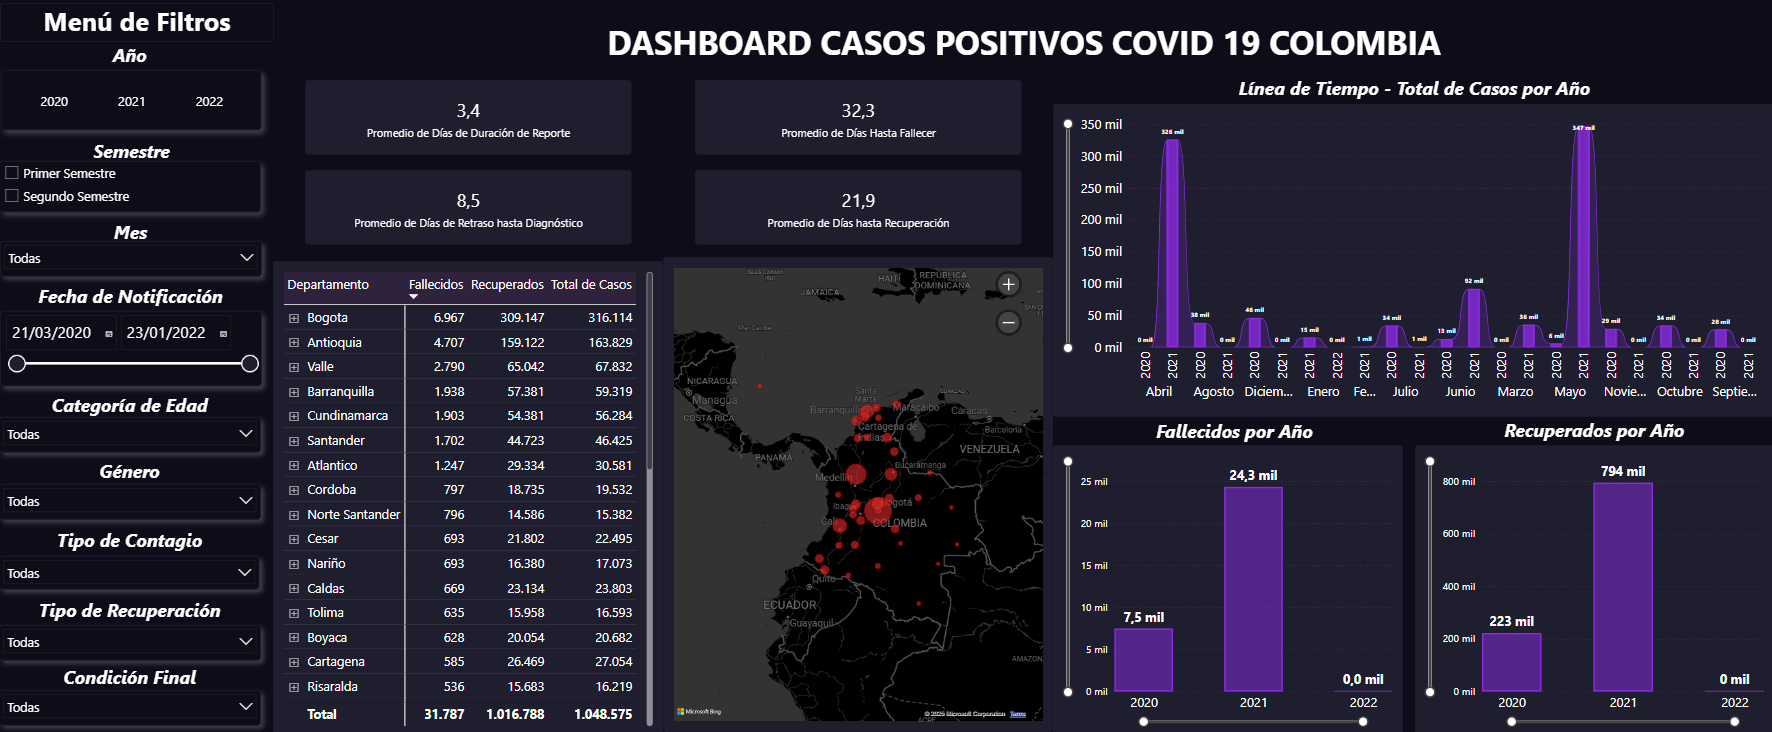

What the dashboard file says about the page in this screenshot:
{"tool":"powerbi","page":{"name":"DASHBOARD","canvas":[2600,1080],"ordinal":0},"visuals":[{"type":"map","title":"Total Casos por Departamento","fields":{"Category":["TBL_DIM_UBICACION_T0.UBICACIÓN.Ubicación del Departamento"],"Size":["TBL_FACT_CASOS.Total de Casos"]},"box":[972.1,379.1,571.4,695.4],"z":0},{"type":"pivotTable","fields":{"Rows":["TBL_DIM_UBICACION_T0.UBICACIÓN.Departamento","TBL_DIM_UBICACION_T0.UBICACIÓN.Municipio"],"Values":["TBL_FACT_CASOS.Fallecidos","TBL_FACT_CASOS.Recuperados","TBL_FACT_CASOS.Total de Casos"]},"box":[400.9,384.7,570.9,696.4],"z":1000},{"type":"slicer","fields":{"Values":["TBL_DIM_CASO_T2.CASO.Tipo de Contagio"]},"box":[0,817.6,380.9,48.5],"z":2000},{"type":"textbox","box":[401.1,30.7,2198.9,76.1],"z":3000},{"type":"textbox","box":[1.8,7.2,400.7,57.5],"z":4000},{"type":"textbox","box":[0,64.7,382.7,41.3],"z":5000},{"type":"textbox","box":[0,673.8,382.7,39.5],"z":6000},{"type":"slicer","fields":{"Values":["TBL_DIM_TIEMPO_T0.TIEMPO.Número del Año"]},"box":[3.6,106,380.9,88],"z":7000},{"type":"textbox","box":[0,576.8,382.7,41.3],"z":8000},{"type":"slicer","fields":{"Values":["TBL_DIM_PERSONA_T0.PERSONA.Categoría de Edad"]},"box":[0,612.7,382.7,52.1],"z":9000},{"type":"slicer","fields":{"Values":["TBL_DIM_PERSONA_T0.PERSONA.Sexo"]},"box":[0,711.5,382.7,52.1],"z":10000},{"type":"textbox","box":[0,774.4,382.7,41.3],"z":11000},{"type":"textbox","box":[0,876.8,382.7,39.5],"z":12000},{"type":"slicer","fields":{"Values":["TBL_DIM_CASO_T2.CASO.Tipo de Recuperación"]},"box":[0,918.2,382.7,52.1],"z":13000},{"type":"textbox","box":[3.6,204.8,382.7,39.5],"z":14000},{"type":"slicer","fields":{"Values":["TBL_DIM_TIEMPO_T0.TIEMPO.Nombre del Semestre"]},"box":[0,239,382.7,75.5],"z":15000},{"type":"textbox","box":[1.8,323.4,382.7,41.3],"z":16000},{"type":"slicer","fields":{"Values":["TBL_DIM_TIEMPO_T0.TIEMPO.Nombre del Mes"]},"box":[1.8,355.8,382.7,52.1],"z":17000},{"type":"textbox","box":[1.8,416.9,382.7,41.3],"z":18000},{"type":"slicer","fields":{"Values":["TBL_DIM_TIEMPO_T0.TIEMPO.Fecha de Notificación"]},"box":[1.8,458.2,382.7,109.6],"z":19000},{"type":"card","fields":{"Values":["TBL_FACT_CASOS.Promedio de Días de Duración de Reporte"]},"box":[448.1,120.1,477.8,109.3],"z":19001},{"type":"card","fields":{"Values":["TBL_FACT_CASOS.Promedio de Días de Retraso hasta Diagnóstico"]},"box":[448.1,252.4,477.8,109.3],"z":19002},{"type":"card","fields":{"Values":["TBL_FACT_CASOS.Promedio de Días Hasta Fallecer"]},"box":[1019,120.1,477.8,109.3],"z":19003},{"type":"card","fields":{"Values":["TBL_FACT_CASOS.Promedio de Días hasta Recuperación"]},"box":[1019,252.4,477.8,109.3],"z":19004},{"type":"ribbonChart","fields":{"Category":["TBL_DIM_TIEMPO_T0.TIEMPO.Nombre del Mes","TBL_DIM_TIEMPO_T0.TIEMPO.Número del Año"],"Y":["TBL_FACT_CASOS.Total de Casos"]},"box":[1543,155.2,1057,458.2],"z":19005},{"type":"clusteredColumnChart","fields":{"Category":["TBL_DIM_TIEMPO_T0.TIEMPO.Número del Año"],"Y":["TBL_FACT_CASOS.Fallecidos"]},"box":[1543.5,654,512.1,425.8],"z":19006},{"type":"textbox","box":[1544.5,614.9,528.5,41],"z":19007},{"type":"textbox","box":[1544.5,112.7,1055.5,42.5],"z":19008},{"type":"clusteredColumnChart","fields":{"Category":["TBL_DIM_TIEMPO_T0.TIEMPO.Número del Año"],"Y":["TBL_FACT_CASOS.Recuperados"]},"box":[2073.5,654,526.5,425.8],"z":19009},{"type":"textbox","box":[2071.5,613.4,528.5,41],"z":19010},{"type":"textbox","box":[0,975.7,382.7,39.5],"z":19011},{"type":"slicer","fields":{"Values":["TBL_DIM_CASO_T2.CASO.Condición Final"]},"box":[0,1013.4,382.7,52.1],"z":19012}]}

Visuals, with their boxes in screenshot pixels (x1, y1, x2, y2), scaled from the page's 2600x1080 canvas onto the 1772x732 screenshot:
"Total Casos por Departamento" map: [663, 257, 1052, 728]
pivotTable - TBL_DIM_UBICACION_T0.UBICACIÓN.Departamento x TBL_DIM_UBICACION_T0.UBICACIÓN.Municipio: [273, 261, 662, 731]
slicer - TBL_DIM_CASO_T2.CASO.Tipo de Contagio: [0, 554, 260, 587]
textbox: [273, 21, 1771, 72]
textbox: [1, 5, 274, 44]
textbox: [0, 44, 261, 72]
textbox: [0, 457, 261, 483]
slicer - TBL_DIM_TIEMPO_T0.TIEMPO.Número del Año: [2, 72, 262, 131]
textbox: [0, 391, 261, 419]
slicer - TBL_DIM_PERSONA_T0.PERSONA.Categoría de Edad: [0, 415, 261, 451]
slicer - TBL_DIM_PERSONA_T0.PERSONA.Sexo: [0, 482, 261, 518]
textbox: [0, 525, 261, 553]
textbox: [0, 594, 261, 621]
slicer - TBL_DIM_CASO_T2.CASO.Tipo de Recuperación: [0, 622, 261, 658]
textbox: [2, 139, 263, 166]
slicer - TBL_DIM_TIEMPO_T0.TIEMPO.Nombre del Semestre: [0, 162, 261, 213]
textbox: [1, 219, 262, 247]
slicer - TBL_DIM_TIEMPO_T0.TIEMPO.Nombre del Mes: [1, 241, 262, 276]
textbox: [1, 283, 262, 311]
slicer - TBL_DIM_TIEMPO_T0.TIEMPO.Fecha de Notificación: [1, 311, 262, 385]
card - TBL_FACT_CASOS.Promedio de Días de Duración de Reporte: [305, 81, 631, 155]
card - TBL_FACT_CASOS.Promedio de Días de Retraso hasta Diagnóstico: [305, 171, 631, 245]
card - TBL_FACT_CASOS.Promedio de Días Hasta Fallecer: [694, 81, 1020, 155]
card - TBL_FACT_CASOS.Promedio de Días hasta Recuperación: [694, 171, 1020, 245]
ribbonChart - TBL_DIM_TIEMPO_T0.TIEMPO.Nombre del Mes x TBL_DIM_TIEMPO_T0.TIEMPO.Número del Año: [1052, 105, 1771, 416]
clusteredColumnChart - TBL_DIM_TIEMPO_T0.TIEMPO.Número del Año x TBL_FACT_CASOS.Fallecidos: [1052, 443, 1401, 731]
textbox: [1053, 417, 1413, 445]
textbox: [1053, 76, 1771, 105]
clusteredColumnChart - TBL_DIM_TIEMPO_T0.TIEMPO.Número del Año x TBL_FACT_CASOS.Recuperados: [1413, 443, 1771, 731]
textbox: [1412, 416, 1771, 444]
textbox: [0, 661, 261, 688]
slicer - TBL_DIM_CASO_T2.CASO.Condición Final: [0, 687, 261, 722]
